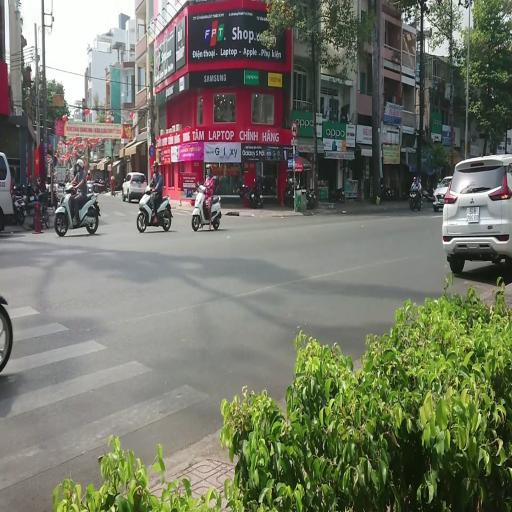bikes: (54, 181, 100, 237), (11, 175, 50, 228), (136, 184, 172, 232), (192, 180, 222, 231), (0, 294, 13, 373), (283, 177, 315, 209), (32, 176, 50, 228), (10, 182, 26, 224), (242, 178, 264, 208), (20, 182, 37, 214), (283, 178, 299, 206), (409, 186, 422, 210), (92, 177, 108, 193), (330, 187, 345, 203), (380, 184, 394, 200), (306, 187, 316, 208)
helmet: (76, 159, 84, 170), (64, 182, 72, 192), (206, 165, 212, 176), (153, 160, 158, 172), (36, 173, 41, 185), (73, 162, 77, 173), (417, 176, 421, 181), (413, 176, 416, 182), (88, 169, 90, 175), (111, 176, 114, 180)
